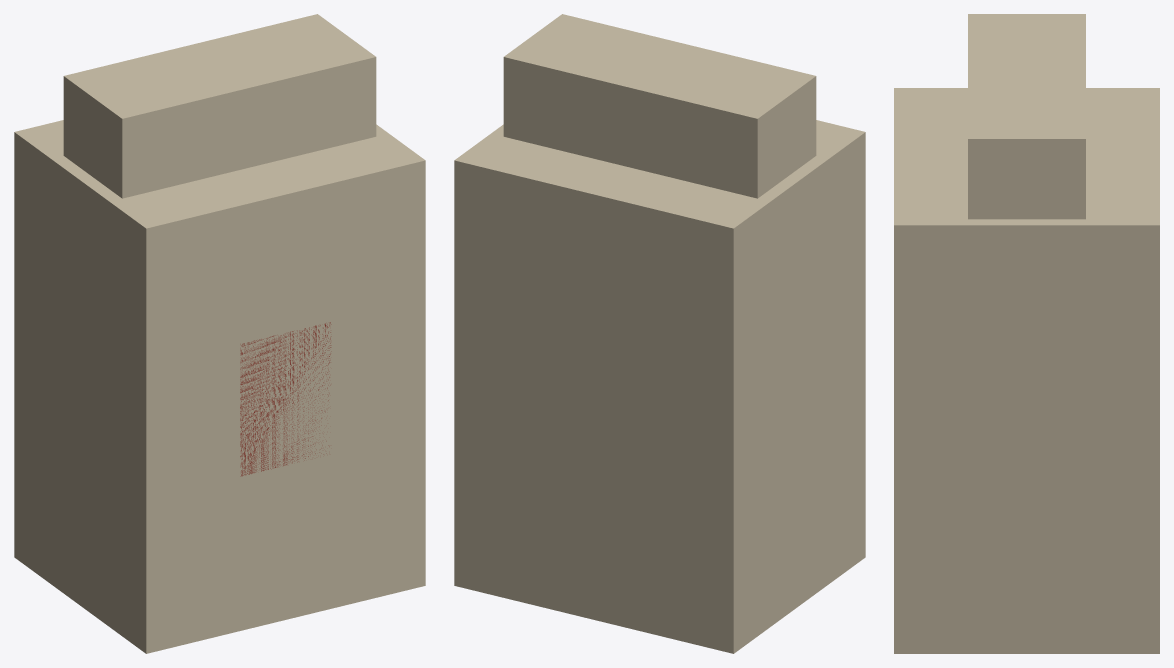
The model's file is sugar-packet-bag.glb.
The picture shows the model from 3 angles, left to right: view 1: azimuth 30°, elevation 25°; view 2: azimuth 150°, elevation 25°; view 3: azimuth 270°, elevation 25°; orthographic projection.
Visible parts, largest first — view 1: paper, accent-warm; view 2: paper; view 3: paper.
Part boxes in pixels (x1,y1,x2,y2): paper: (14,14,425,653); accent-warm: (240,322,331,476); paper: (454,14,865,653); paper: (894,14,1159,653).
Bounding box in the file's own units: 0.11 × 0.19 × 0.09.
